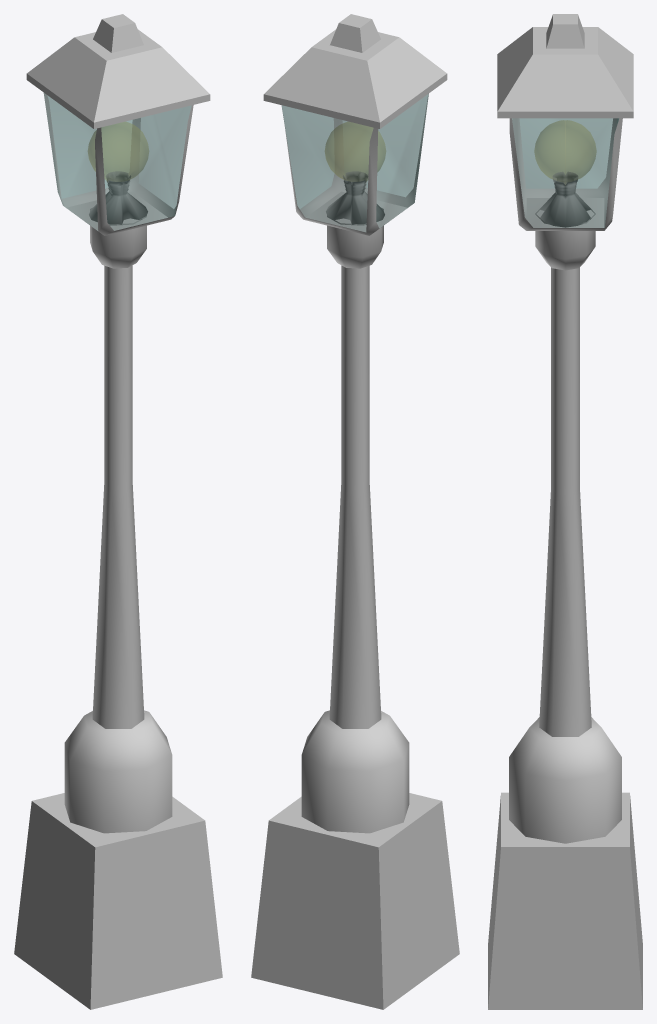
The model's file is light_baseless.obj.
The picture shows the model from 3 angles, left to right: view 1: azimuth 30°, elevation 25°; view 2: azimuth 150°, elevation 25°; view 3: azimuth 270°, elevation 25°; orthographic projection.
Parts seen in each view (by area): view 1: ParkLamp_Untitled.189, Sphere; view 2: ParkLamp_Untitled.189, Sphere; view 3: ParkLamp_Untitled.189, Sphere.
Boxes of the visible parts, x1,y1,x2,y2 form: ParkLamp_Untitled.189: (14,14,222,1009); Sphere: (88,122,148,224); ParkLamp_Untitled.189: (251,14,459,1009); Sphere: (325,122,385,224); ParkLamp_Untitled.189: (488,14,642,1009); Sphere: (534,120,596,227).
Size of the model in its own units: 0.4831 by 3.3 by 0.4831.
